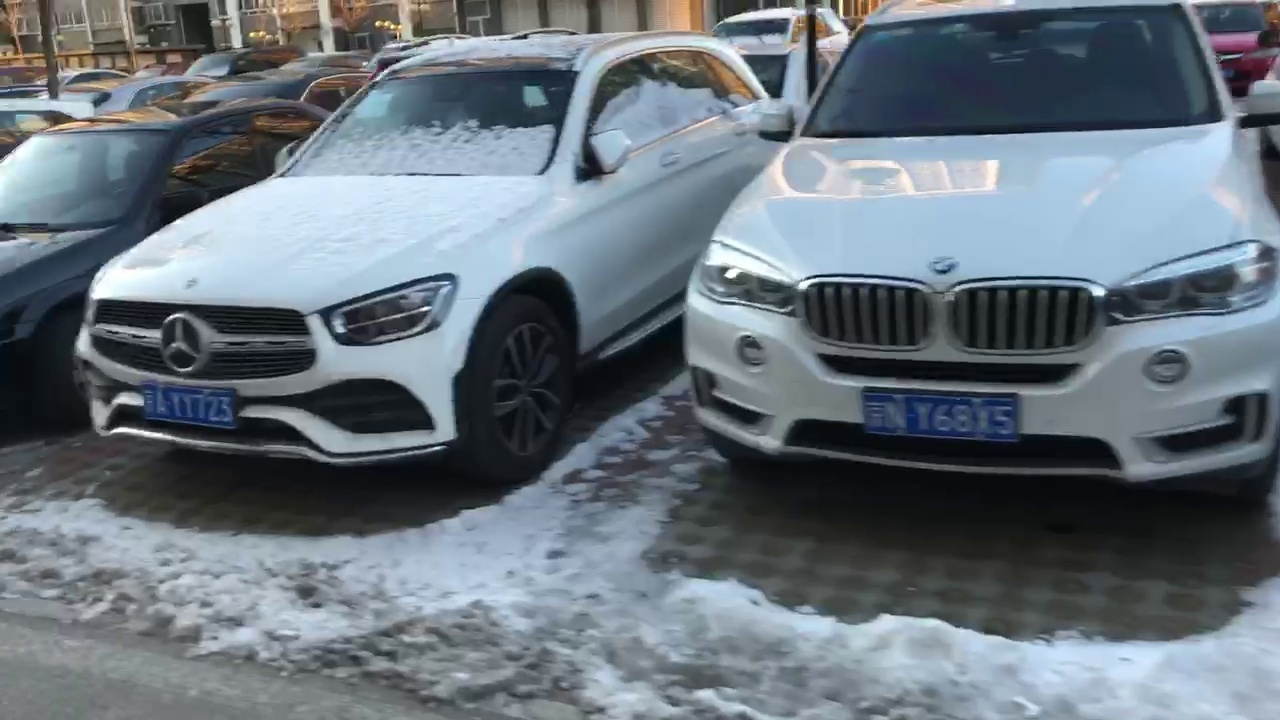plate: (862, 390, 1026, 448), (141, 384, 240, 431)
